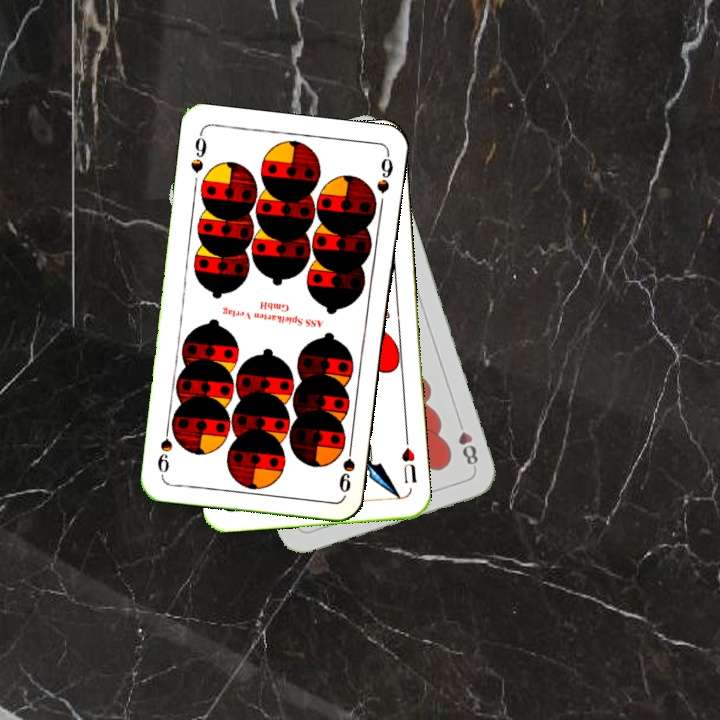H8: (453, 414, 481, 471)
HU: (397, 444, 419, 486)
S9: (334, 437, 358, 495), (186, 128, 210, 176)
